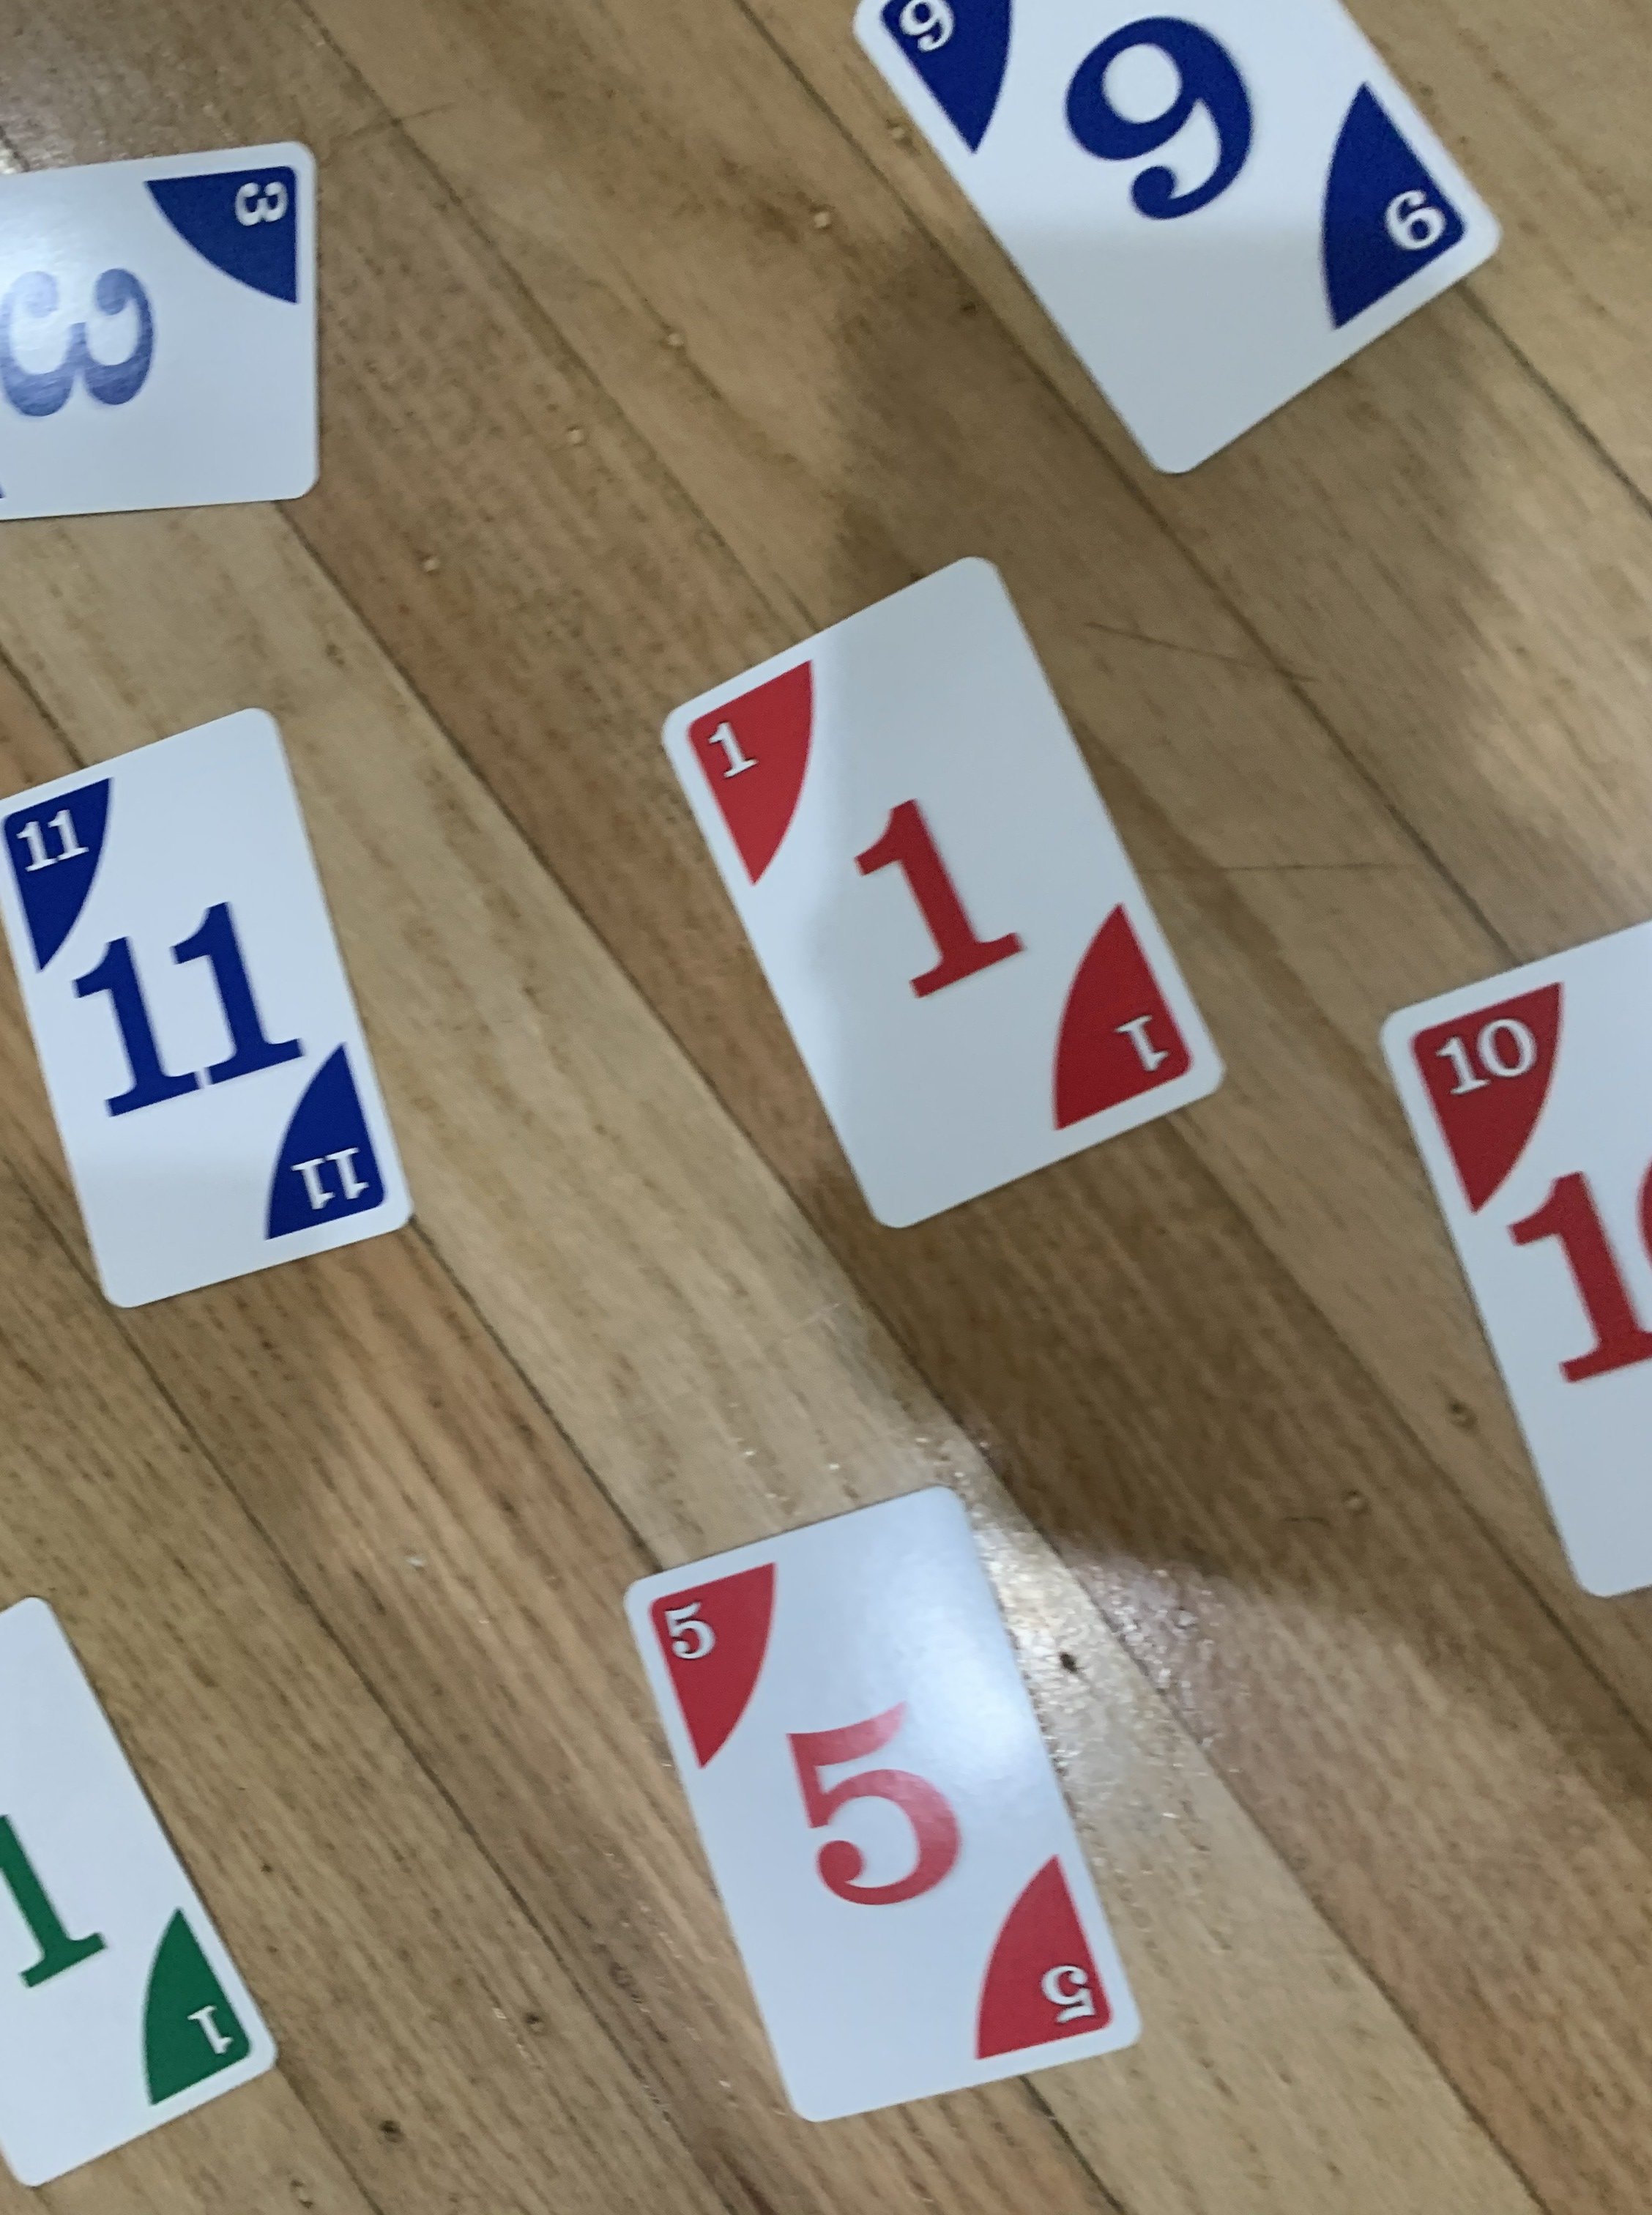eleven: (0, 700, 416, 1326)
five: (616, 1474, 1149, 2137)
one: (652, 545, 1234, 1239)
